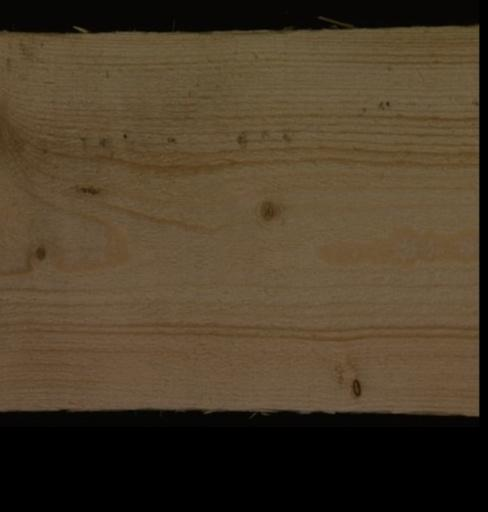dry_knot: (348, 372, 363, 400)
sound_knot: (254, 193, 282, 224), (30, 240, 50, 263)
